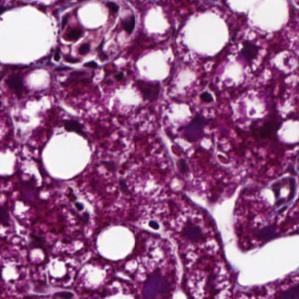inflammation: (50, 19, 112, 67), (55, 181, 99, 232), (226, 34, 269, 73), (191, 81, 225, 112), (137, 213, 170, 236)
